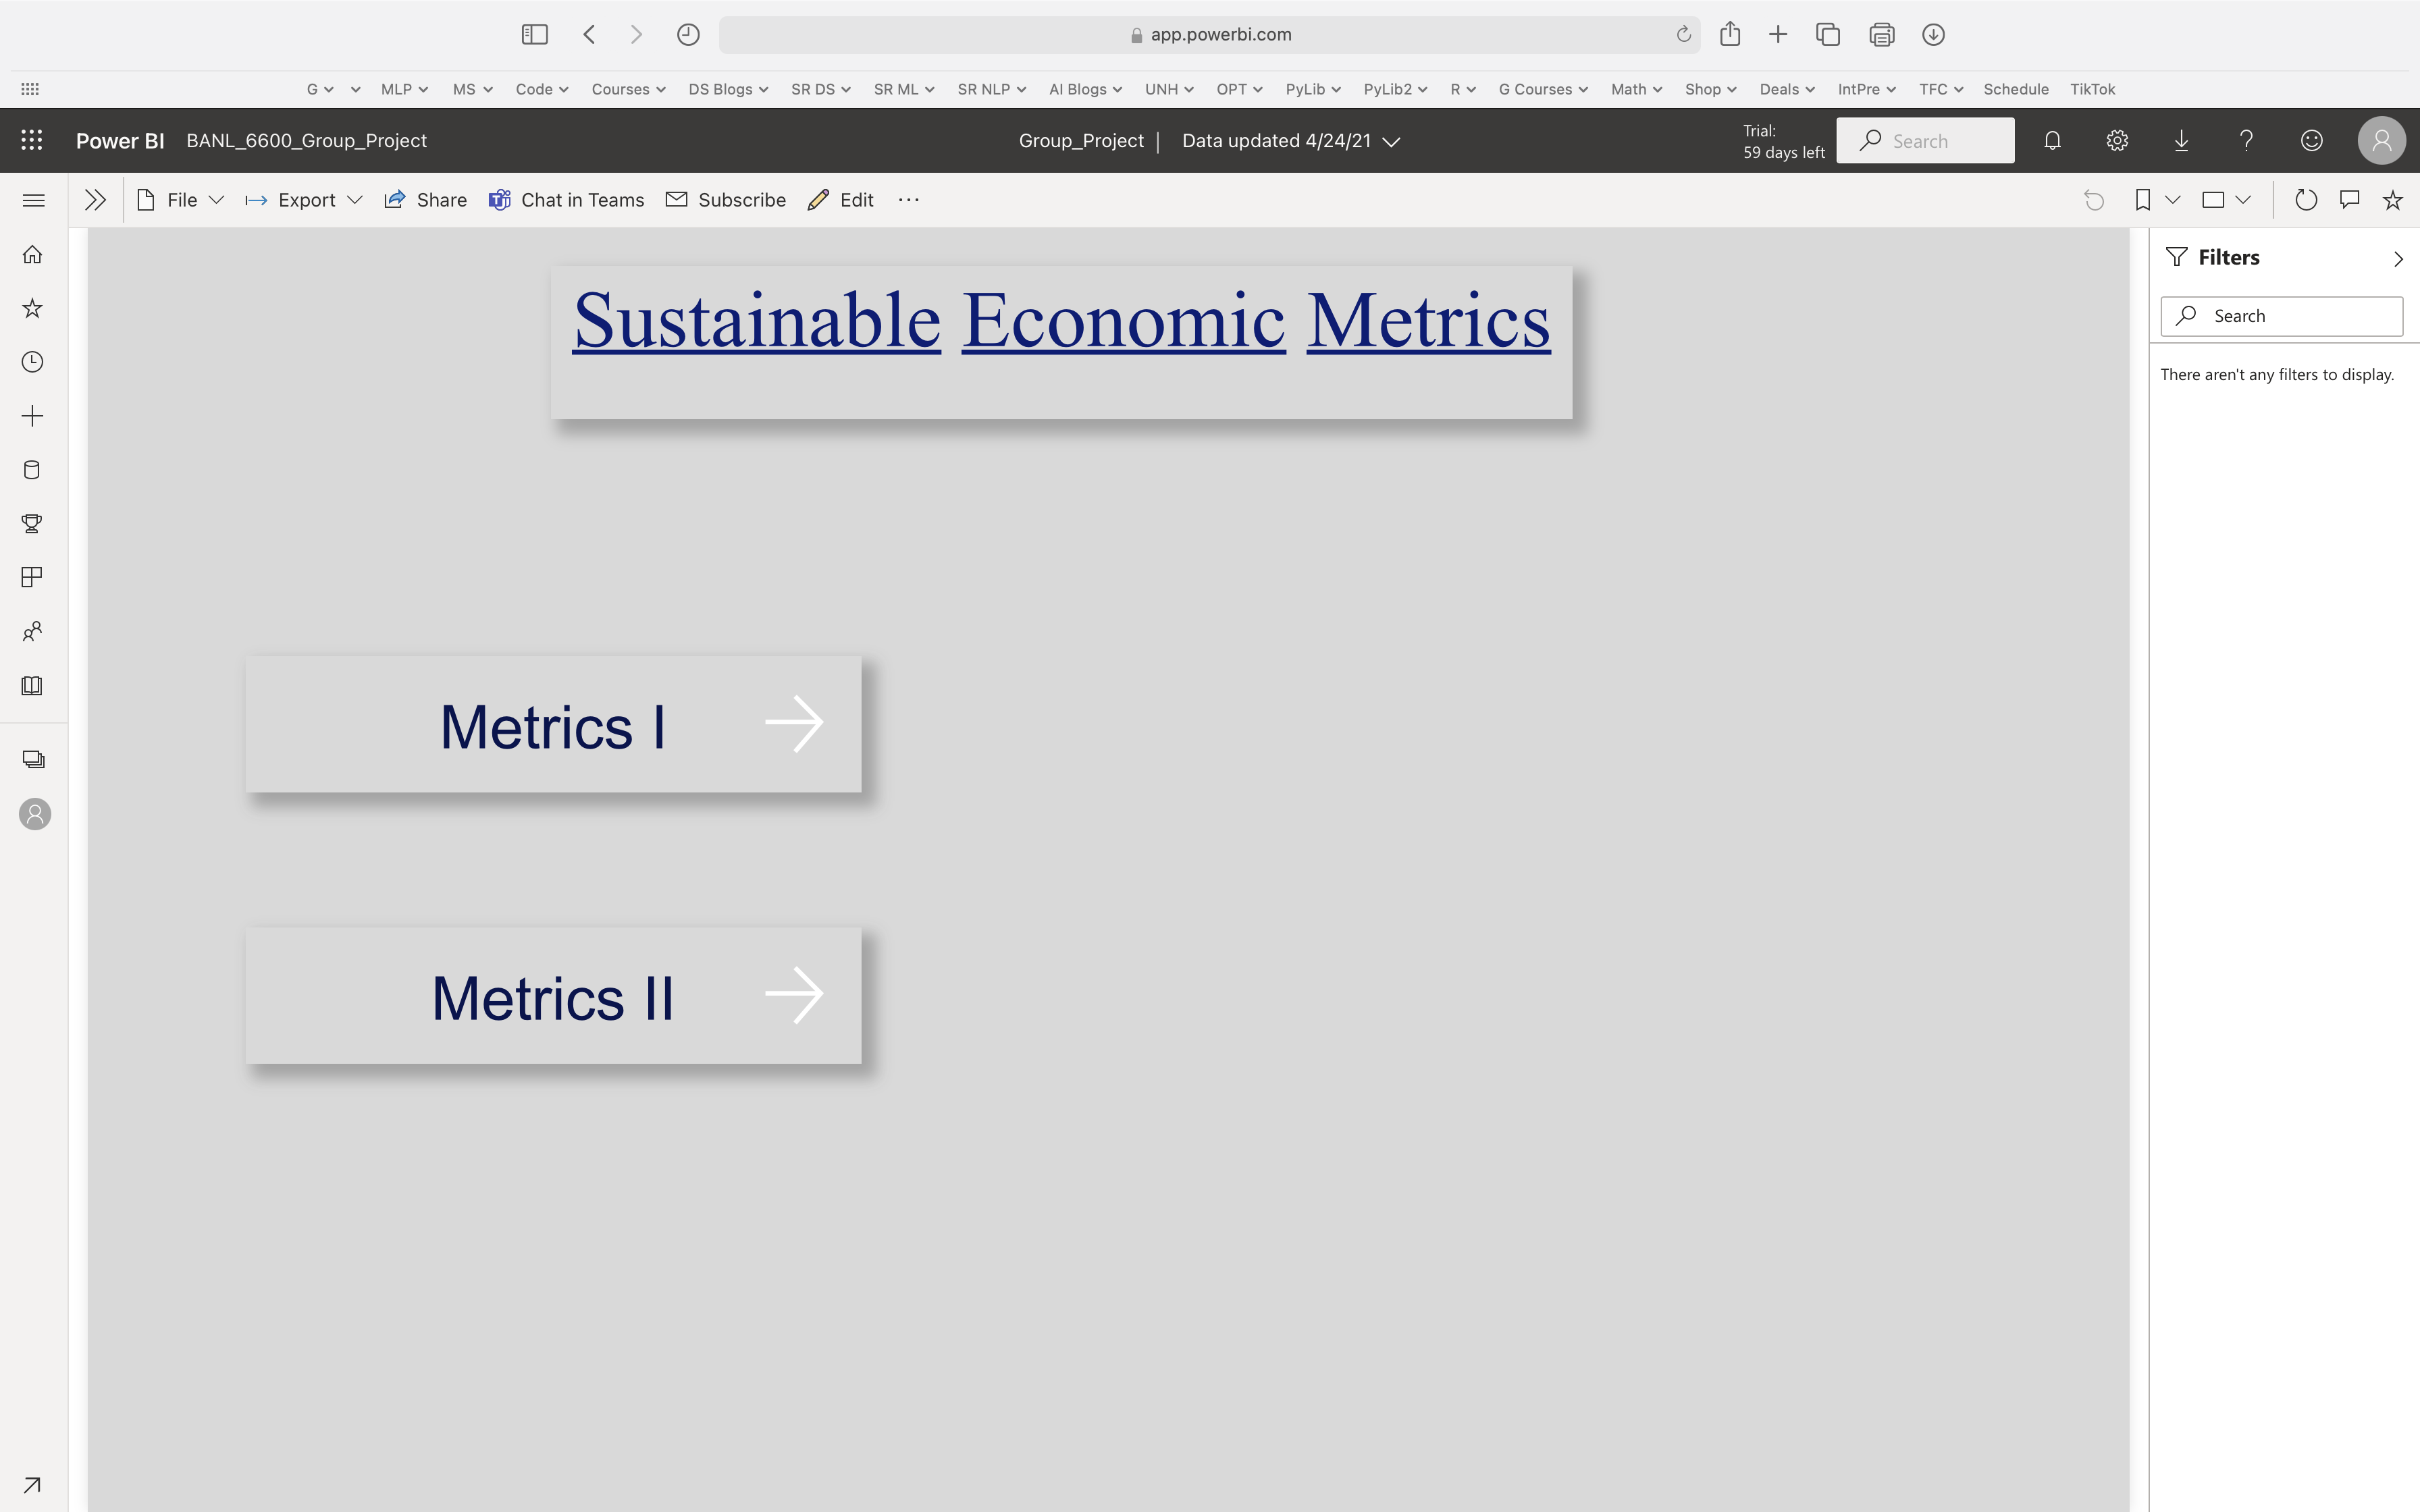

The page's visual inventory and layout, read from the dashboard file:
{"tool":"powerbi","page":{"name":"Main Menu","canvas":[1350,850],"ordinal":0},"visuals":[{"type":"textbox","box":[306.3,26.1,675.7,101.6],"z":0},{"type":"actionButton","box":[104.3,283.9,407,89.8],"z":1000},{"type":"actionButton","box":[104.3,463.5,407,89.8],"z":2000}]}

Visuals, with their boxes on the page's 1350x850 design canvas (x1, y1, x2, y2). These are canvas units, not pixel positions in the 2420x1512 screenshot, which may show the page scaled, cropped or inside an application window:
textbox: x1=306 y1=26 x2=982 y2=128
actionButton: x1=104 y1=284 x2=511 y2=374
actionButton: x1=104 y1=464 x2=511 y2=553
